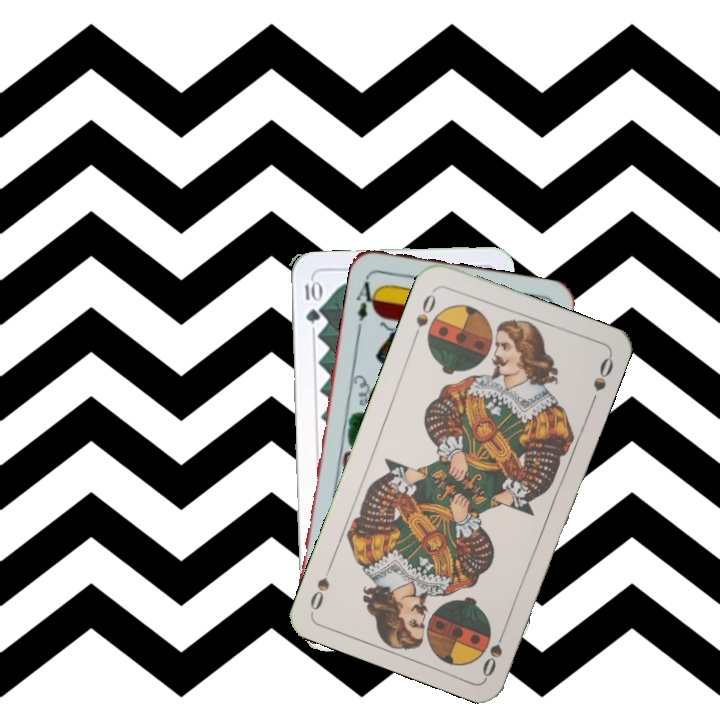EA: (351, 273, 381, 324)
G10: (301, 276, 322, 326)
SO: (478, 622, 509, 679), (409, 290, 439, 342)
